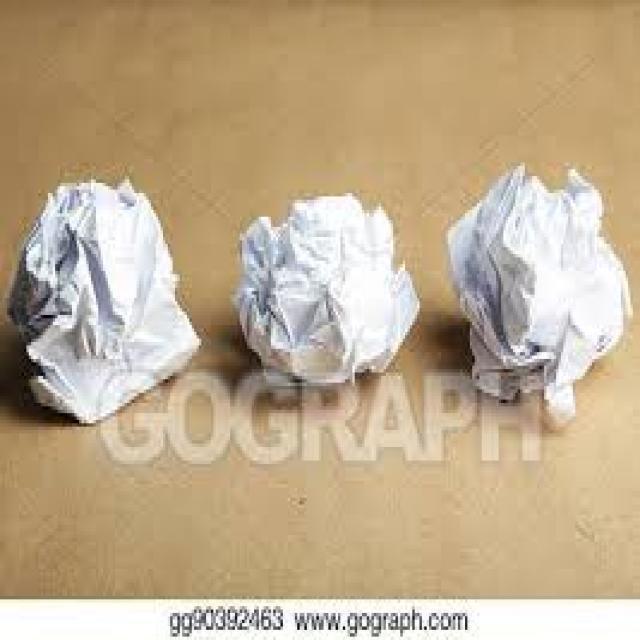Paper: (12, 184, 205, 426), (449, 171, 632, 409), (230, 192, 423, 381)
